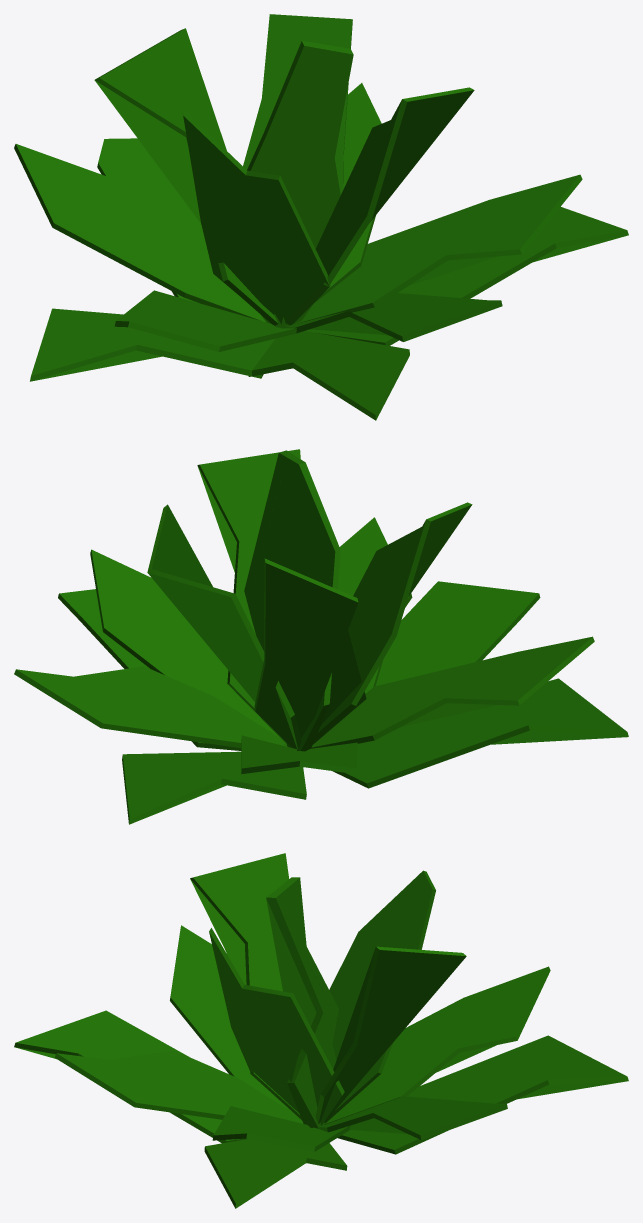
File: Plant.fbx
3 views of the same model, one above another, from view 1: azimuth 30°, elevation 25°; view 2: azimuth 150°, elevation 25°; view 3: azimuth 270°, elevation 25° (orthographic). The views are drawn at different scales.
Visible parts, largest first — view 1: Plant; view 2: Plant; view 3: Plant.
Boxes of the visible parts, x1,y1,x2,y2 form: Plant: [14, 14, 628, 420]; Plant: [14, 449, 628, 824]; Plant: [14, 853, 628, 1208].
Bounding box in the file's own units: 11.52 × 5.63 × 11.72.
